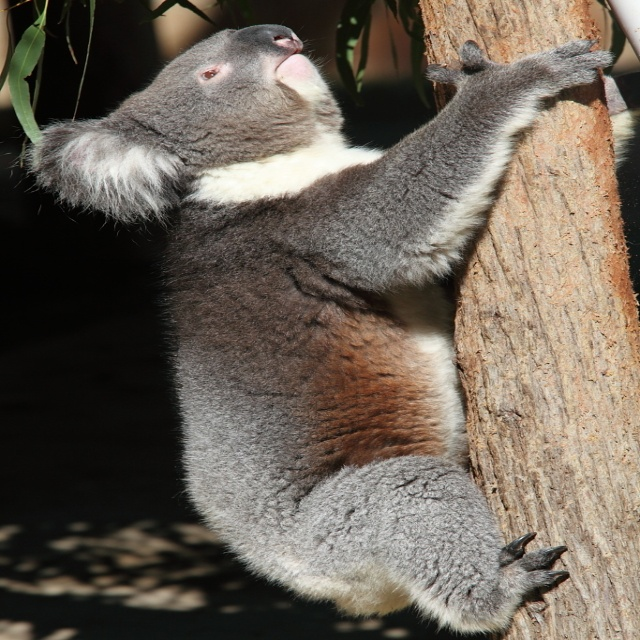Koala: (44, 14, 640, 636)
